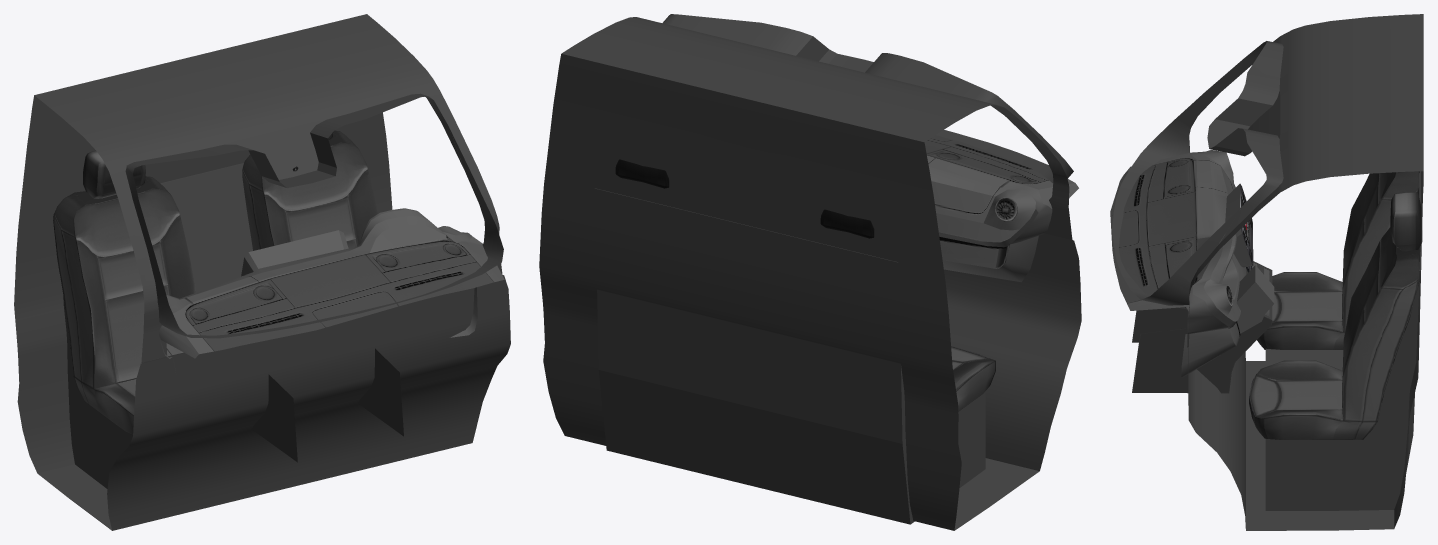
File: vanInside.fbx
The picture shows the model from 3 angles, left to right: view 1: azimuth 30°, elevation 25°; view 2: azimuth 150°, elevation 25°; view 3: azimuth 270°, elevation 25°; orthographic projection. The views are drawn at different scales.
Visible parts, largest first — view 1: BodyInterior; view 2: BodyInterior; view 3: BodyInterior.
Part boxes in pixels (x1,y1,x2,y2): BodyInterior: [14, 14, 510, 530]; BodyInterior: [539, 14, 1081, 530]; BodyInterior: [1110, 14, 1423, 530].
Size of the model in its own units: 120 by 109 by 87.87.
